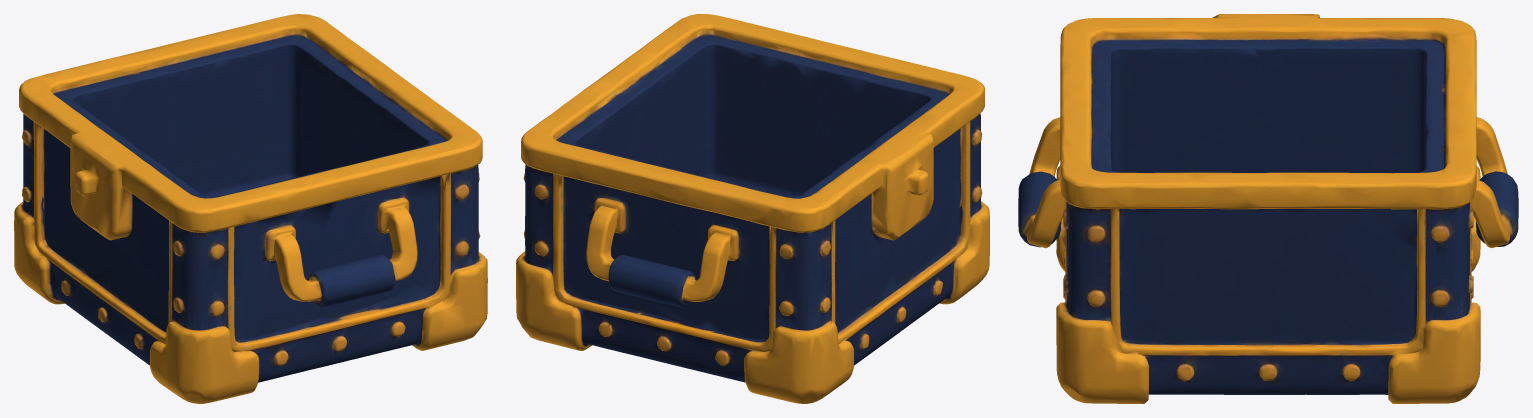
Rendered from legendary-box.glb.
3 views of the same model, side by side, from view 1: azimuth 30°, elevation 25°; view 2: azimuth 150°, elevation 25°; view 3: azimuth 270°, elevation 25° (orthographic). The views are drawn at different scales.
Parts seen in each view (by area): view 1: tripo_node_308e8411-bea5-485b-a857-4c988501b83d; view 2: tripo_node_308e8411-bea5-485b-a857-4c988501b83d; view 3: tripo_node_308e8411-bea5-485b-a857-4c988501b83d.
Boxes of the visible parts, box(x1,y1,x2,y2) form: tripo_node_308e8411-bea5-485b-a857-4c988501b83d: box(14, 14, 487, 403); tripo_node_308e8411-bea5-485b-a857-4c988501b83d: box(516, 14, 989, 403); tripo_node_308e8411-bea5-485b-a857-4c988501b83d: box(1018, 14, 1518, 403).
Bounding box in the file's own units: 1.71 × 0.9999 × 1.99.
1 material, 1 textured.
